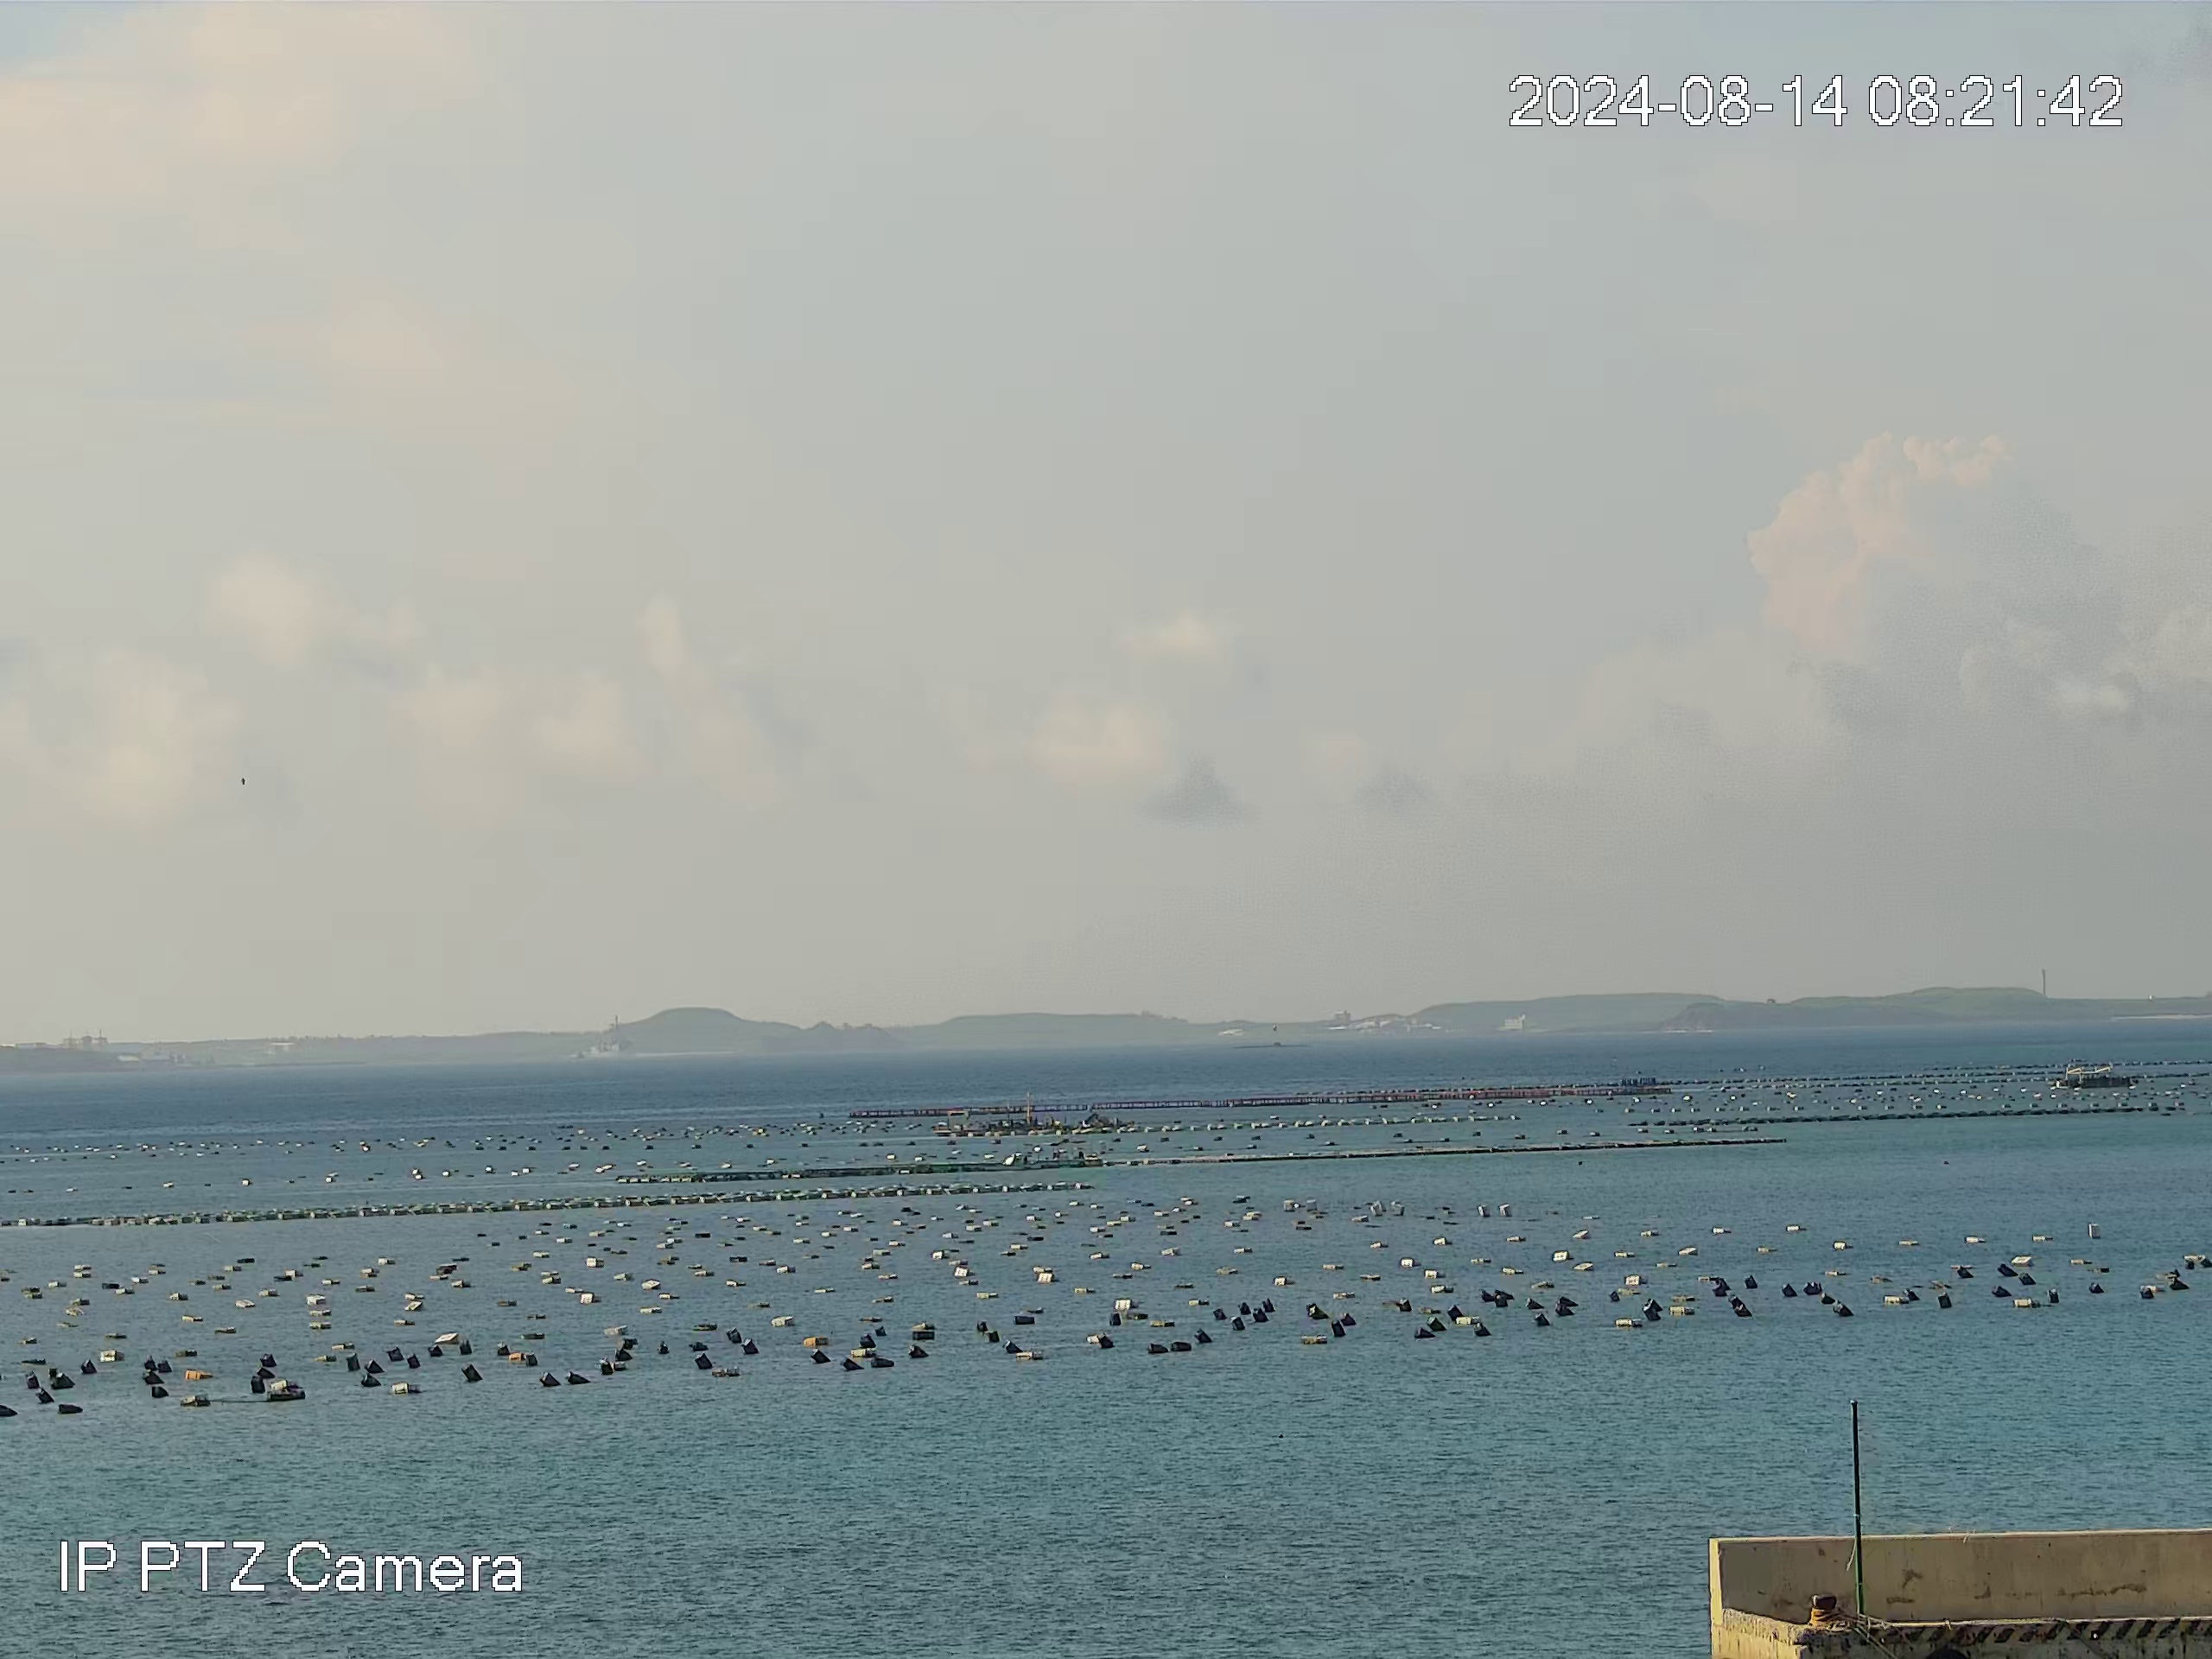boat: (2055, 1065, 2135, 1087)
